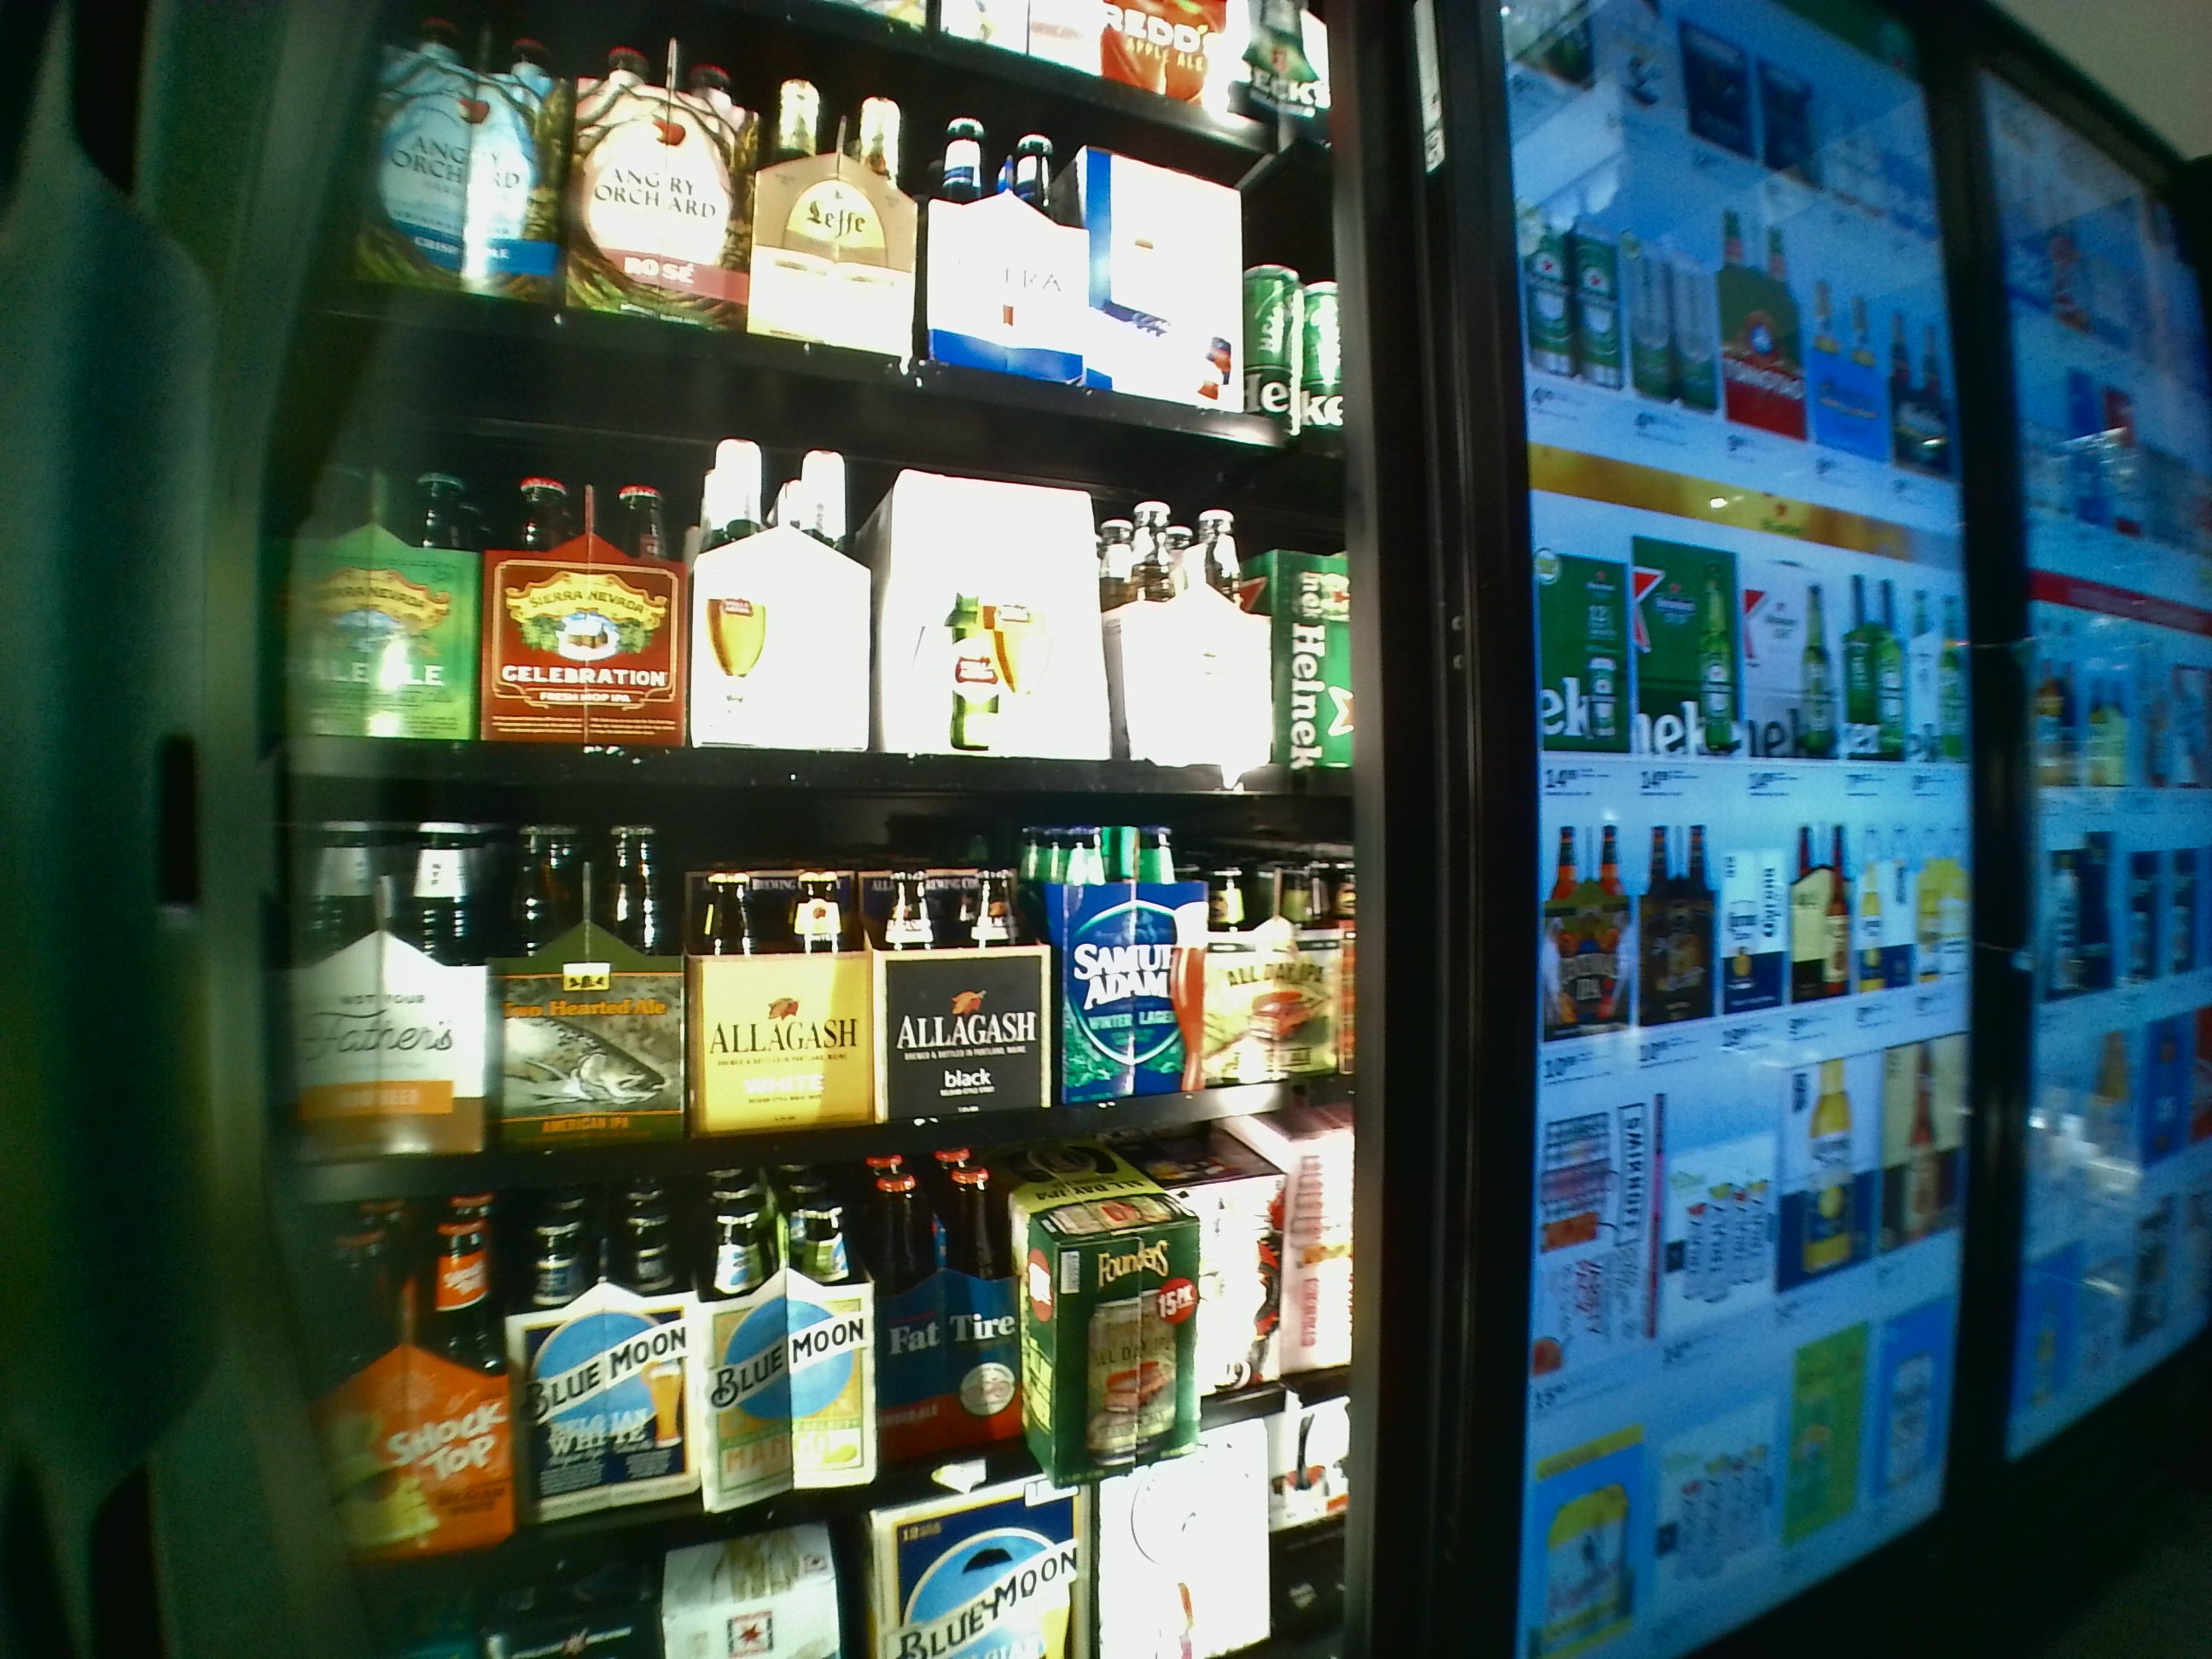shelf: (273, 328, 1348, 793), (270, 809, 1355, 1218)
